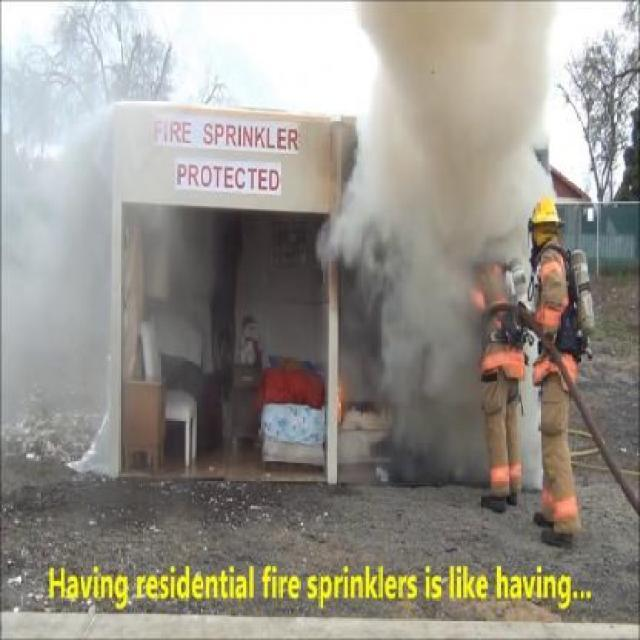fire: (330, 373, 352, 429)
smoke: (344, 11, 590, 542), (4, 54, 220, 486)
